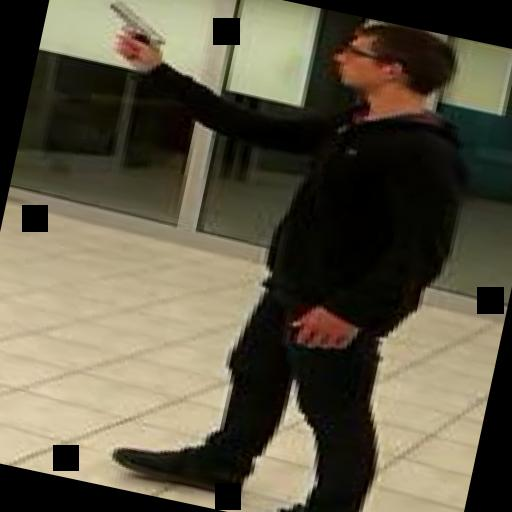Handgun: (89, 0, 172, 64)
